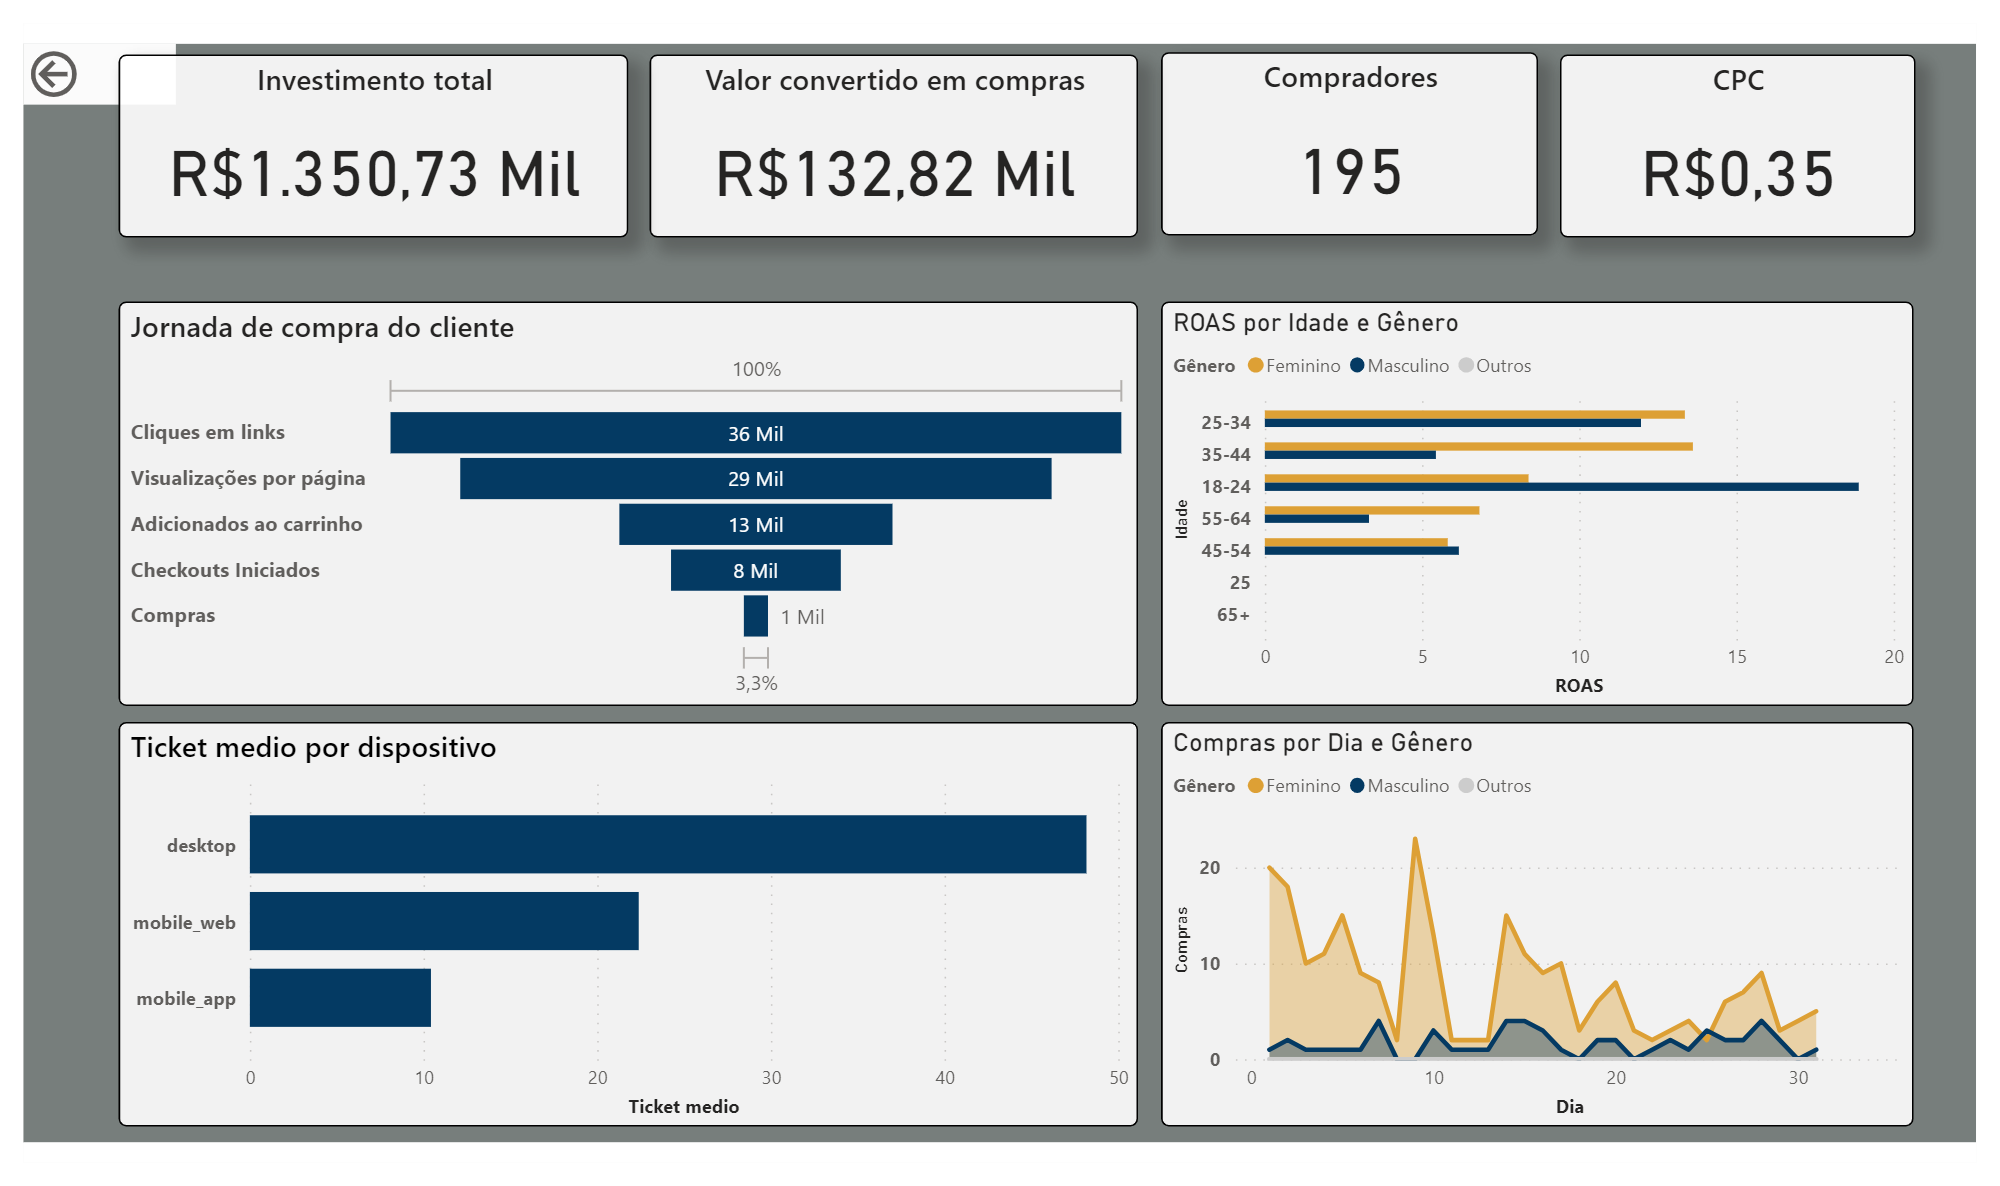

This screenshot's page, from the dashboard's own definition file:
{"tool":"powerbi","page":{"name":"Página 1","canvas":[1280,720],"ordinal":0},"visuals":[{"type":"card","title":"Compradores","fields":{"Values":["CountNonNull(Tabela_dispositivos.Compras)"]},"box":[746.1,6.2,246.6,120.2],"z":0},{"type":"card","title":"Valor convertido em compras","fields":{"Values":["Sum(Tabela_dispositivos.Valor de conversão de compras)"]},"box":[410.5,7.8,320,120.2],"z":1000},{"type":"actionButton","box":[0,0,100,40],"z":2000},{"type":"card","title":"Investimento total","fields":{"Values":["Sum(Tabela_dispositivos.Valor de conversão adicionado ao carrinho)"]},"box":[62.4,7.8,334,120.2],"z":3000},{"type":"card","title":"CPC","fields":{"Values":["Tabela_dispositivos.custo_por_clik"]},"box":[1006.8,7.8,232.6,120.2],"z":4000},{"type":"funnel","title":"Jornada de compra do cliente","fields":{"Y":["Sum(Tabela_dispositivos.Cliques em links)","Sum(Tabela_dispositivos.Visualizações por página)","Sum(Tabela_dispositivos.Adicionados ao carrinho)","Sum(Tabela_dispositivos.Checkouts Iniciados)","Sum(Tabela_dispositivos.Compras)"]},"box":[62.4,168.6,668.1,265.4],"z":5000},{"type":"clusteredBarChart","title":"Ticket medio por dispositivo","fields":{"Category":["Tabela_dispositivos.Plataforma do dispositivo","Tabela_dispositivos.Plataforma"],"Y":["medidas.Ticket medio"]},"box":[62,444,668,265],"z":6000},{"type":"clusteredBarChart","fields":{"Y":["medidas.ROAS"],"Category":["Tabela_idade_e_genero.Idade"],"Series":["Tabela_idade_e_genero.Gênero"]},"box":[746.1,168.6,493.3,265.4],"z":7000},{"type":"areaChart","fields":{"Series":["Tabela_idade_e_genero.Gênero"],"Category":["Tabela_idade_e_genero.Dia.Variation.Hierarquia de datas.Dia"],"Y":["Sum(Tabela_idade_e_genero.Compras)"]},"box":[746,444,493,265],"z":7001}]}

Visuals, with their boxes in screenshot pixels (x1, y1, x2, y2):
"Compradores" card: Rect(1155, 46, 1535, 231)
"Valor convertido em compras" card: Rect(638, 48, 1131, 234)
actionButton: Rect(5, 36, 159, 98)
"Investimento total" card: Rect(101, 48, 616, 234)
"CPC" card: Rect(1557, 48, 1915, 234)
"Jornada de compra do cliente" funnel: Rect(101, 296, 1131, 705)
"Ticket medio por dispositivo" clusteredBarChart: Rect(101, 721, 1130, 1129)
clusteredBarChart - medidas.ROAS x Tabela_idade_e_genero.Idade: Rect(1155, 296, 1915, 705)
areaChart - Tabela_idade_e_genero.Gênero x Tabela_idade_e_genero.Dia.Variation.Hierarquia de datas.Dia: Rect(1155, 721, 1914, 1129)
